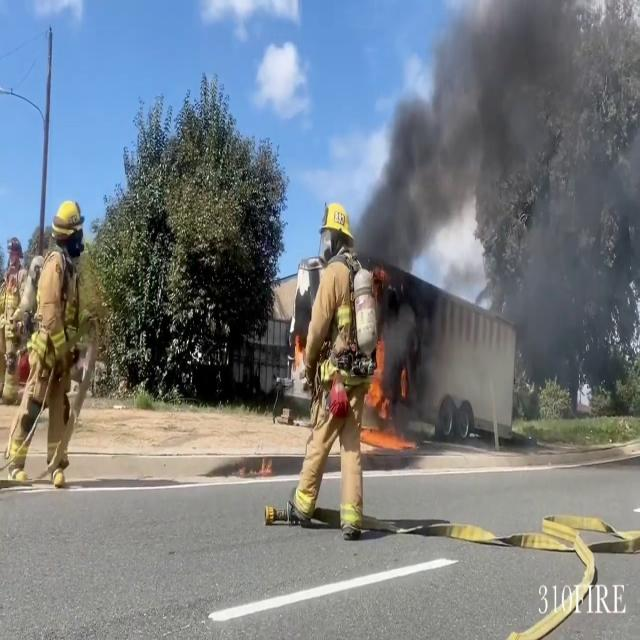Fire: (363, 332, 392, 427)
Smoke: (359, 0, 640, 415)
